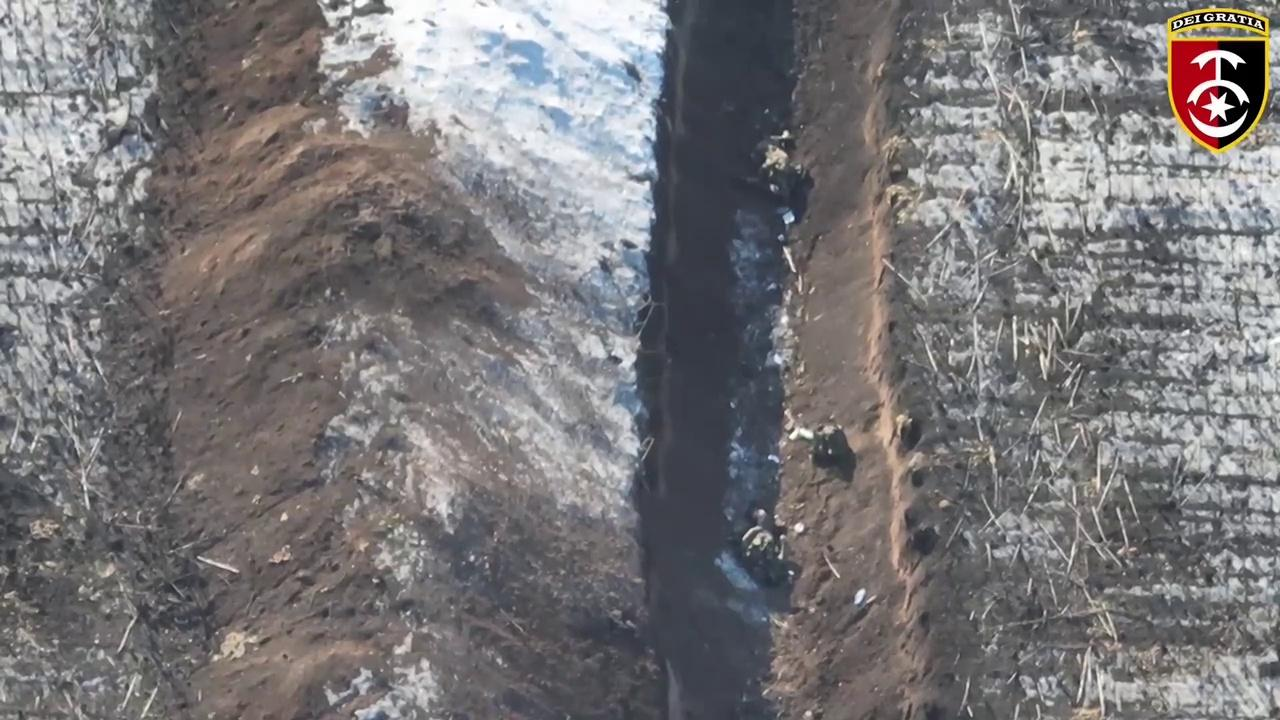person: (737, 513, 792, 585), (750, 142, 801, 205), (788, 416, 845, 469)
